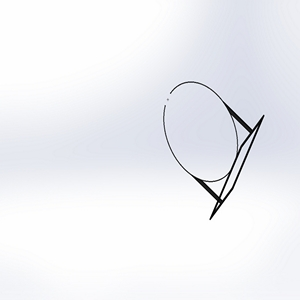circle: (158, 78, 266, 221)
